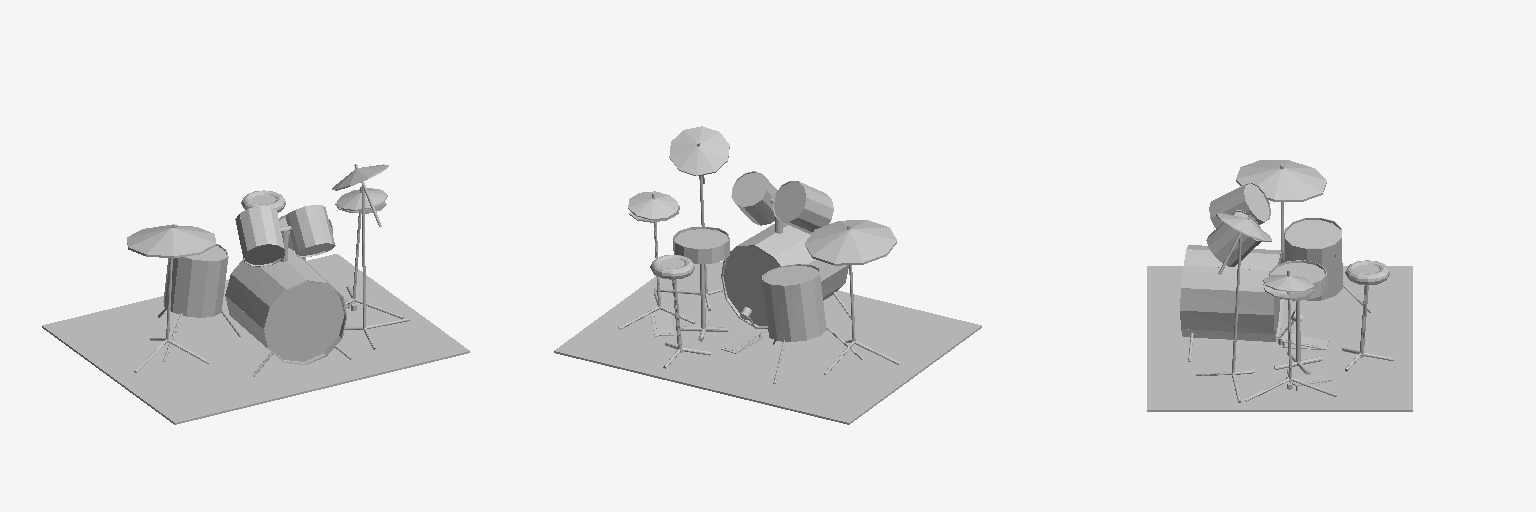
The model's file is drum.obj.
3 views of the same model, side by side, from view 1: azimuth 30°, elevation 25°; view 2: azimuth 150°, elevation 25°; view 3: azimuth 270°, elevation 25° (orthographic).
Visible parts, largest first — view 1: group[number redacted], group[number redacted], group[number redacted], group[number redacted], group[number redacted], group[number redacted], group[number redacted], group[number redacted], group[number redacted], group[number redacted], group[number redacted], group[number redacted] (+4 smaller); view 2: group[number redacted], group[number redacted], group[number redacted], group[number redacted], group[number redacted], group[number redacted], group[number redacted], group[number redacted], group[number redacted], group[number redacted], group[number redacted], group[number redacted] (+4 smaller); view 3: group[number redacted], group[number redacted], group[number redacted], group[number redacted], group[number redacted], group[number redacted], group[number redacted], group[number redacted], group[number redacted], group[number redacted], group[number redacted], group[number redacted] (+4 smaller).
Boxes of the visible parts, x1,y1,x2,y2 form: group[number redacted]: [42, 254, 469, 424]; group[number redacted]: [265, 282, 343, 361]; group[number redacted]: [235, 206, 284, 266]; group[number redacted]: [127, 225, 215, 258]; group[number redacted]: [286, 205, 335, 256]; group[number redacted]: [231, 259, 285, 306]; group[number redacted]: [225, 274, 269, 328]; group[number redacted]: [186, 260, 208, 317]; group[number redacted]: [173, 257, 192, 315]; group[number redacted]: [332, 164, 388, 226]; group[number redacted]: [337, 188, 387, 210]; group[number redacted]: [202, 260, 221, 317]; group[number redacted]: [554, 262, 981, 424]; group[number redacted]: [805, 220, 896, 265]; group[number redacted]: [723, 247, 779, 325]; group[number redacted]: [669, 126, 729, 183]; group[number redacted]: [772, 181, 833, 233]; group[number redacted]: [731, 171, 777, 225]; group[number redacted]: [650, 255, 710, 368]; group[number redacted]: [628, 191, 677, 219]; group[number redacted]: [618, 192, 694, 336]; group[number redacted]: [784, 284, 806, 341]; group[number redacted]: [755, 225, 810, 257]; group[number redacted]: [675, 229, 728, 248]; group[number redacted]: [1147, 266, 1412, 411]; group[number redacted]: [1236, 160, 1326, 201]; group[number redacted]: [1180, 288, 1273, 314]; group[number redacted]: [1181, 265, 1268, 291]; group[number redacted]: [1180, 311, 1274, 333]; group[number redacted]: [1209, 182, 1270, 228]; group[number redacted]: [1342, 260, 1393, 371]; group[number redacted]: [1206, 210, 1261, 266]; group[number redacted]: [1286, 220, 1340, 247]; group[number redacted]: [1184, 249, 1279, 270]; group[number redacted]: [1245, 270, 1336, 401]; group[number redacted]: [1216, 213, 1271, 274].
Bounding box in the file's own units: 1.6 × 0.872 × 1.25.